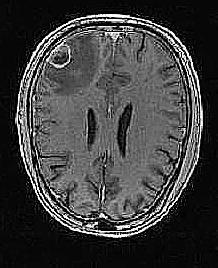Normal_Brain: (1, 1, 218, 268)
